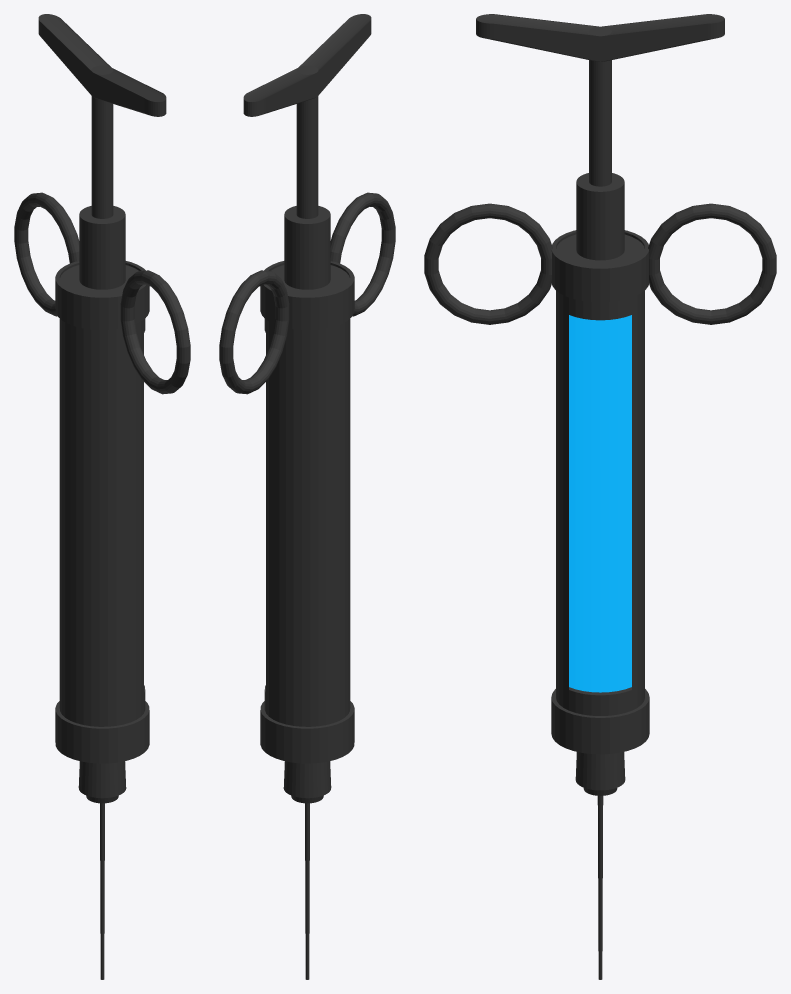
File: Adrenaline.fbx
The picture shows the model from 3 angles, left to right: view 1: azimuth 30°, elevation 25°; view 2: azimuth 150°, elevation 25°; view 3: azimuth 270°, elevation 25°; orthographic projection. The views are drawn at different scales.
Visible parts, largest first — view 1: Adrenaline; view 2: Adrenaline; view 3: Adrenaline.
Part boxes in pixels (x1,y1,x2,y2): Adrenaline: (14,14,190,979); Adrenaline: (219,14,395,979); Adrenaline: (424,14,776,979).
Size of the model in its own units: 5.5 by 59.33 by 19.74.
